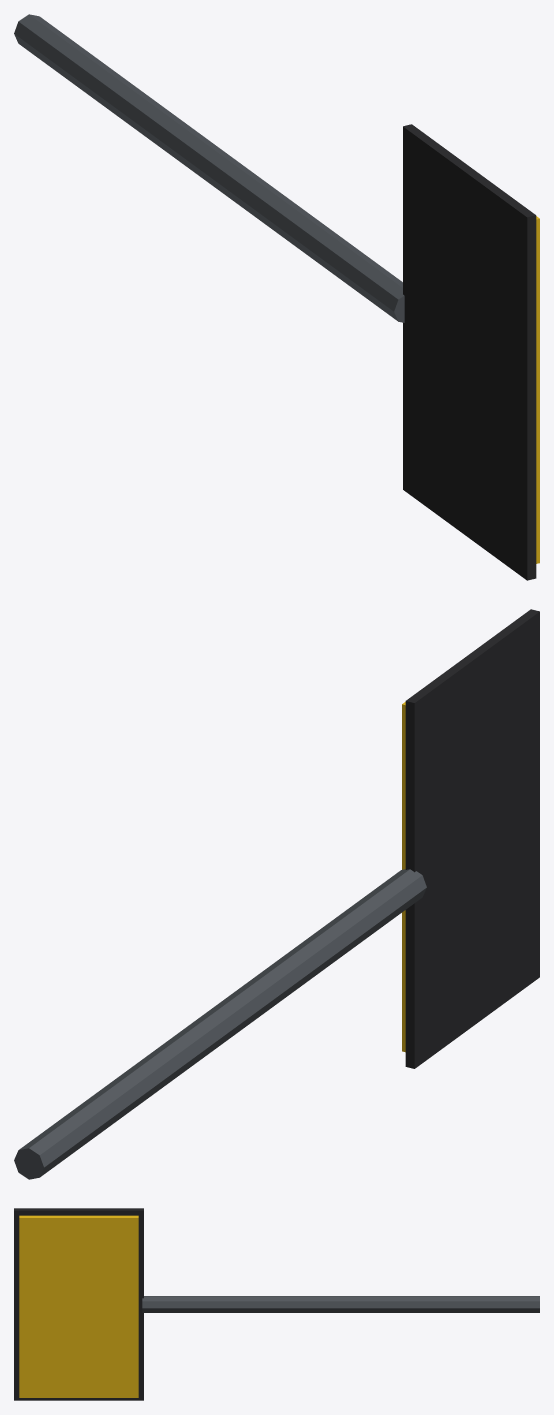
The model's file is sign_plate.obj.
3 views of the same model, one above another, from view 1: azimuth 30°, elevation 25°; view 2: azimuth 150°, elevation 25°; view 3: azimuth 270°, elevation 25° (orthographic). The views are drawn at different scales.
Parts seen in each view (by area): view 1: sign_plate_rim, sign_plate_pole, sign_plate_face; view 2: sign_plate_rim, sign_plate_pole, sign_plate_face; view 3: sign_plate_face, sign_plate_pole, sign_plate_rim.
Part boxes in pixels (x1,y1,x2,y2): sign_plate_rim: [403, 124, 536, 580]; sign_plate_pole: [14, 14, 404, 322]; sign_plate_face: [536, 216, 539, 563]; sign_plate_rim: [405, 609, 539, 1068]; sign_plate_pole: [14, 869, 426, 1179]; sign_plate_face: [402, 702, 405, 1052]; sign_plate_face: [19, 1215, 138, 1397]; sign_plate_pole: [142, 1296, 539, 1312]; sign_plate_rim: [14, 1208, 143, 1400].
Size of the model in its own units: 0.1 by 1.16 by 2.91.
